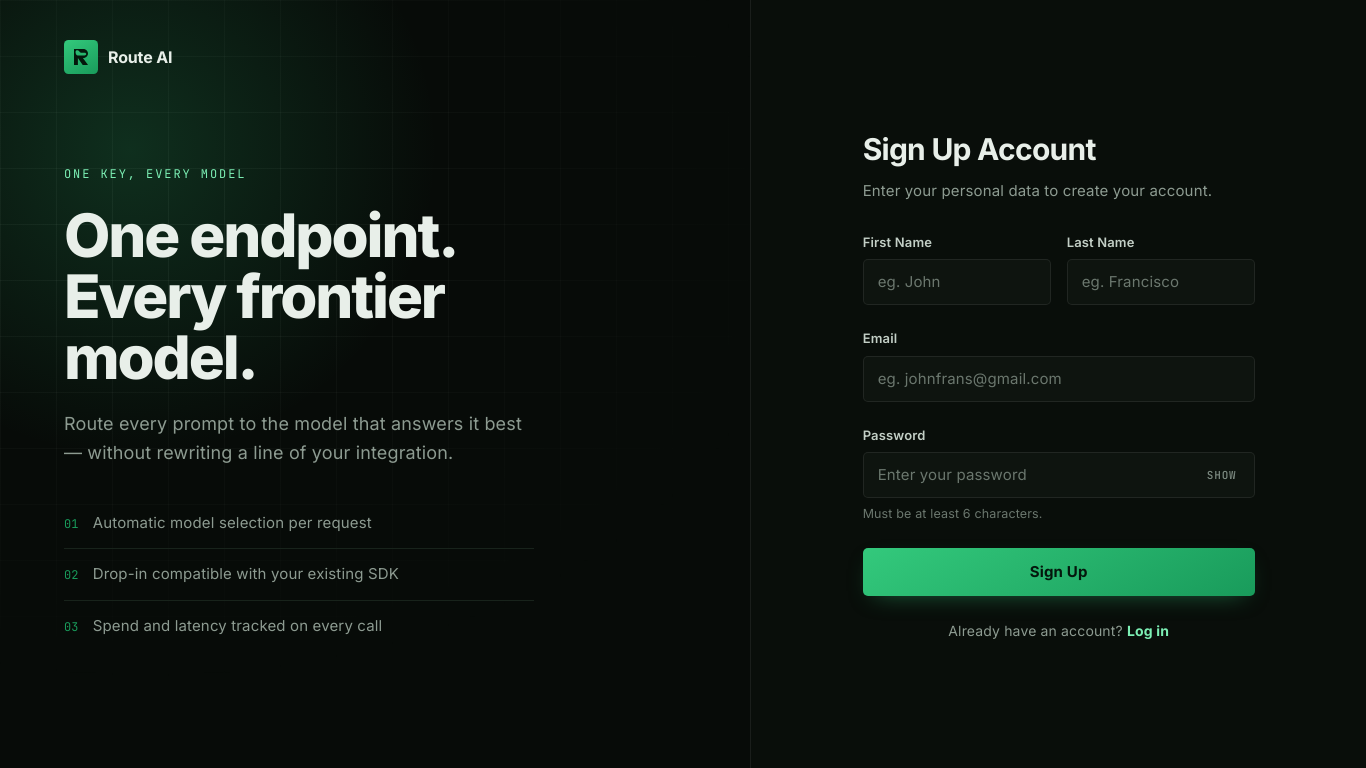
Signup › client-side validation › reports every empty field on submit
Click the button "Sign Up" at (1059, 572), box [863,548,1255,596]
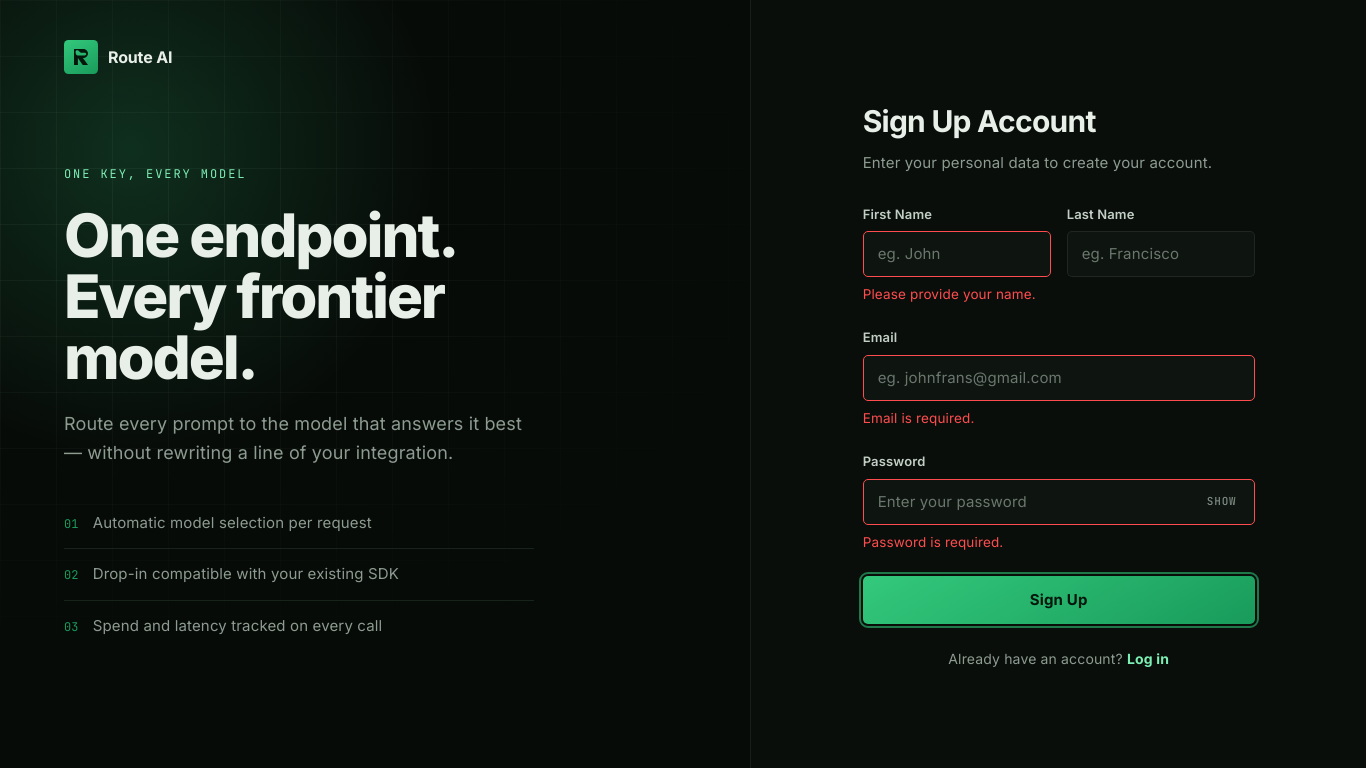
Expected: the text "Please provide your name." is shown, [863,284,1051,304]
Expected: the text "Email is required." is shown, [863,410,974,426]
Expected: the text "Password is required." is shown, [863,534,1003,550]
